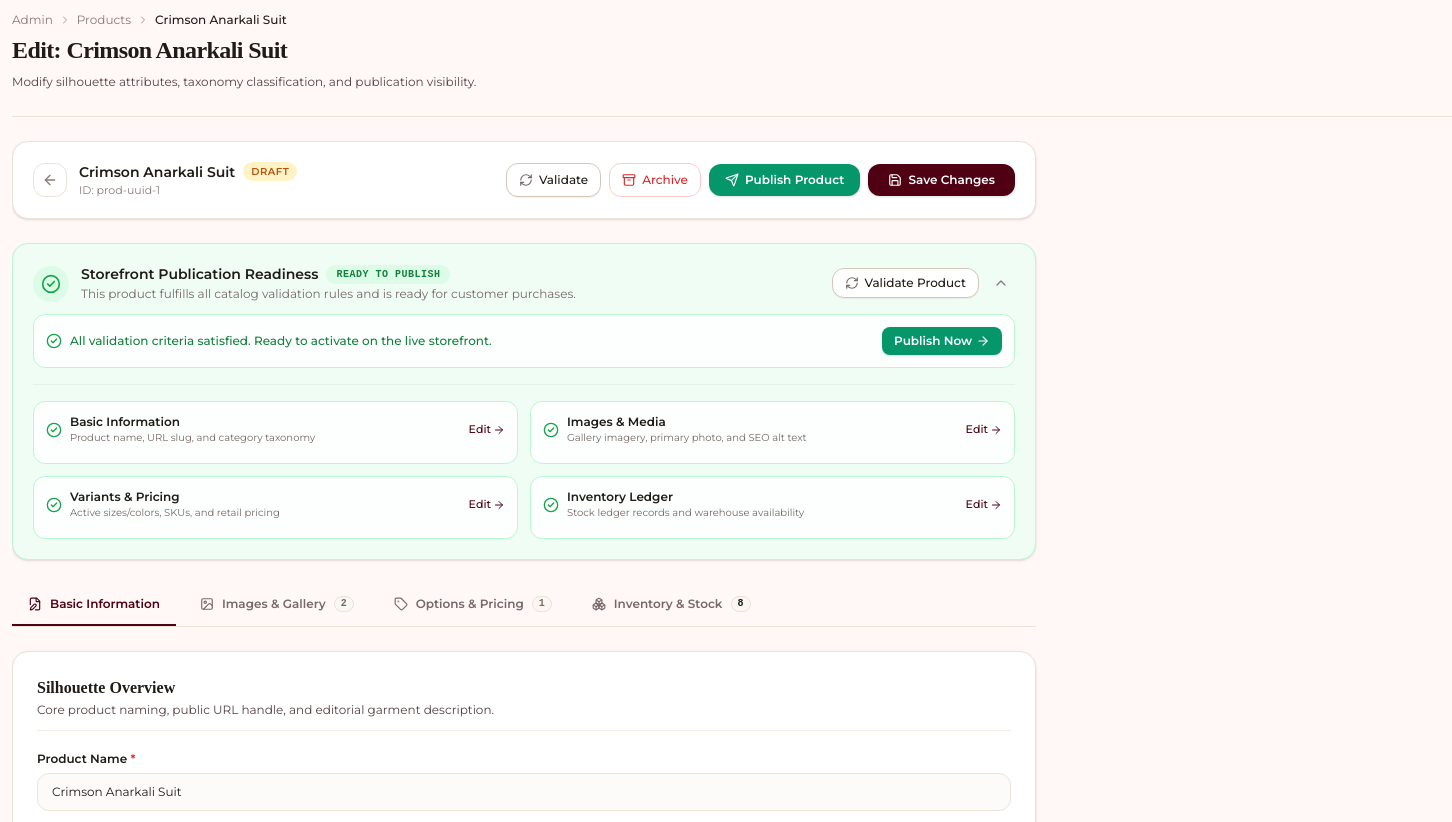
Scenario: Admin Product Edit Flow › navigates to Images & Gallery tab and displays existing images
Click the text "Images & Gallery". click: [274, 604]
box: [222,596,326,612]
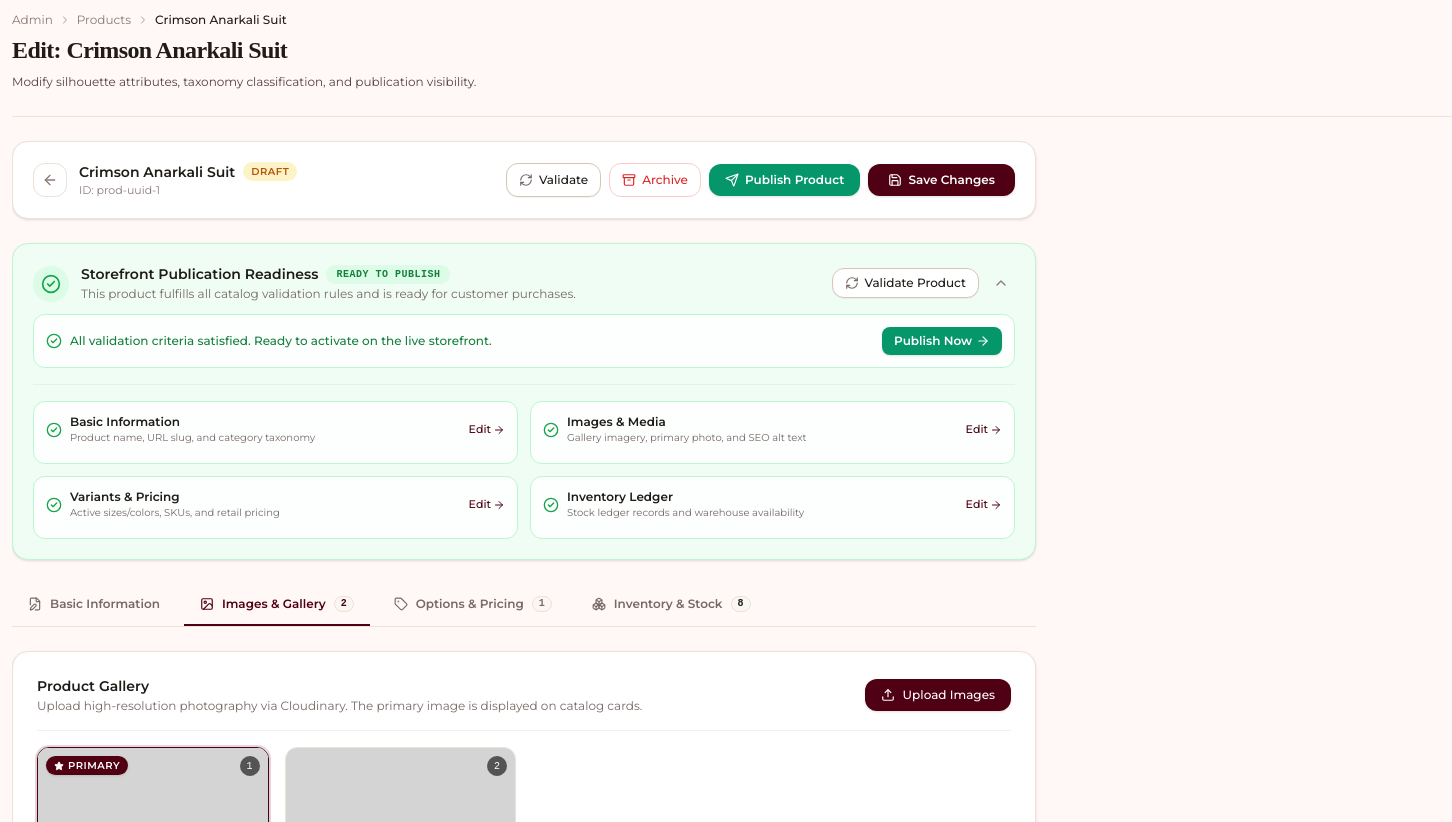
Expected: the text "Primary" is shown, [46,756,128,775]
